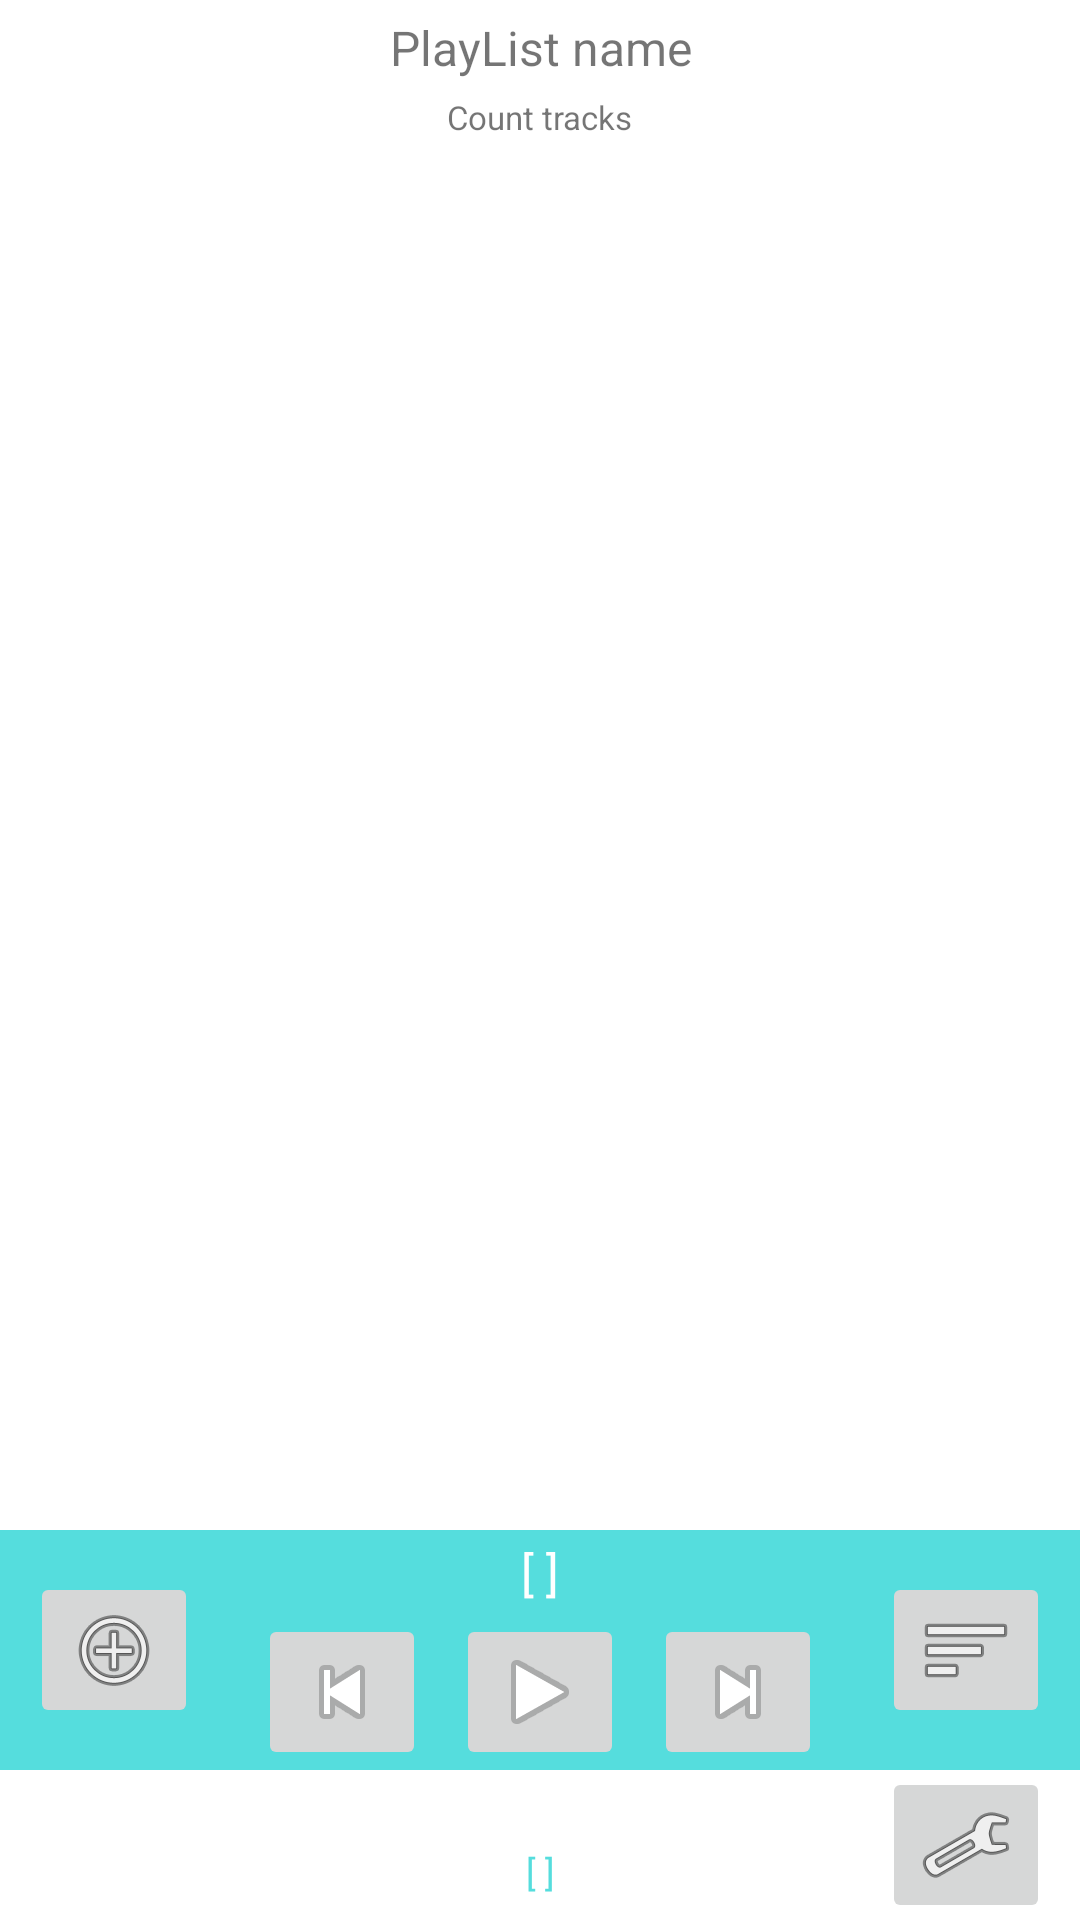

Locate icon controls on the screen. Image size 1080x1920, boxes as (x1, y1, x2, y2).
add: (42, 1590, 186, 1710)
manage: (894, 1785, 1038, 1905)
next: (666, 1632, 810, 1752)
play: (468, 1632, 612, 1752)
previous: (270, 1632, 414, 1752)
sort by size: (894, 1590, 1038, 1710)
